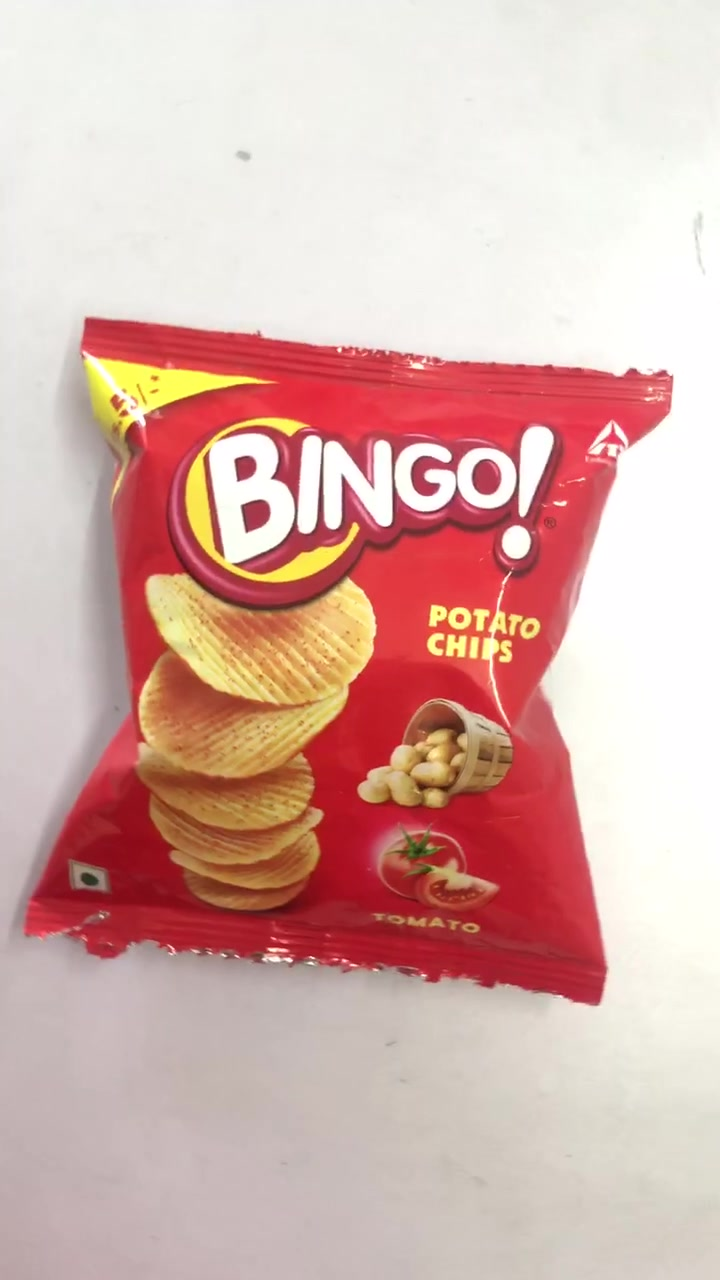Bingo: (24, 316, 671, 1012)
